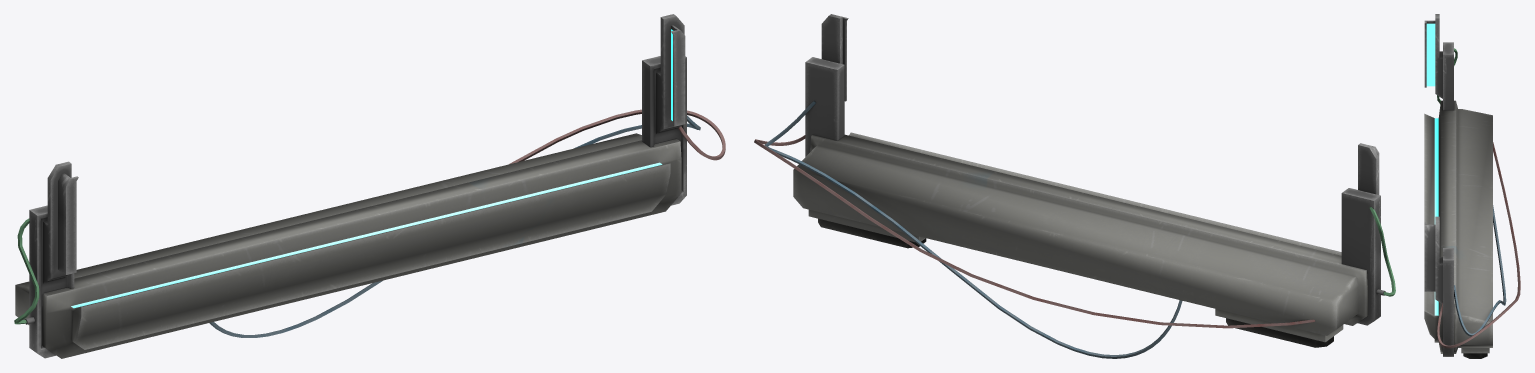
The model's file is ScreenHolder.fbx.
3 renders of one model, left to right at view 1: azimuth 30°, elevation 25°; view 2: azimuth 150°, elevation 25°; view 3: azimuth 270°, elevation 25°, orthographic. The views are drawn at different scales.
Parts seen in each view (by area): view 1: ScreenHolder; view 2: ScreenHolder; view 3: ScreenHolder.
Boxes of the visible parts, x1,y1,x2,y2 form: ScreenHolder: [14, 14, 725, 358]; ScreenHolder: [754, 14, 1395, 358]; ScreenHolder: [1424, 14, 1520, 358].
Size of the model in its own units: 754 by 271 by 128.
Materials: 2 (1 with a texture image).
